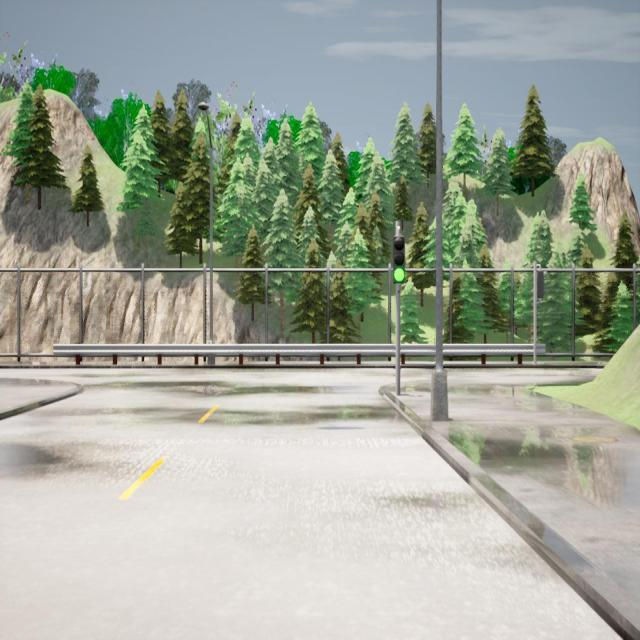traffic_light: (393, 236, 405, 284), (537, 271, 546, 298)
